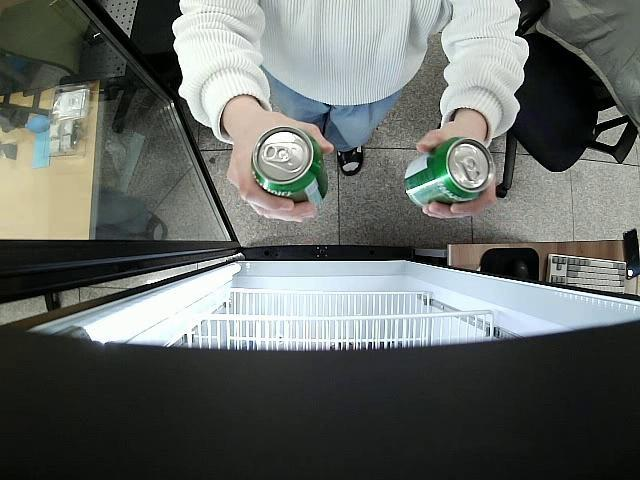12_chilsungCider: (404, 138, 496, 210), (253, 127, 328, 210)
